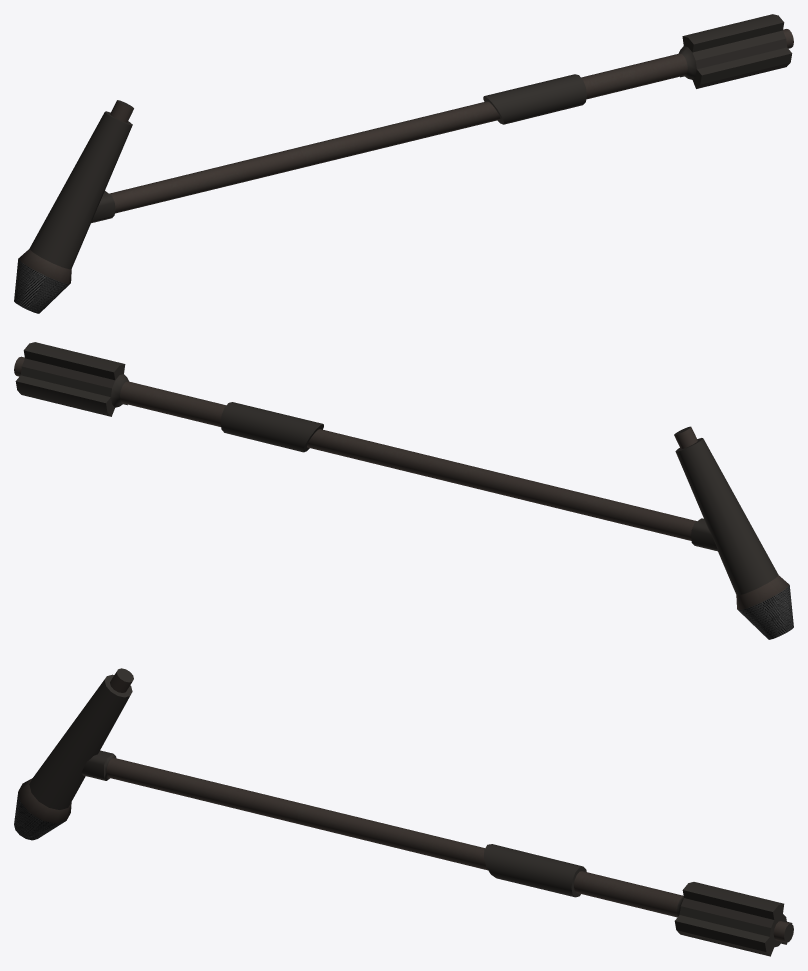
The model's file is GYM_Studio_Mic_1.fbx.
The picture shows the model from 3 angles, top to bottom: view 1: azimuth 30°, elevation 25°; view 2: azimuth 150°, elevation 25°; view 3: azimuth 330°, elevation 25°; orthographic projection.
Parts seen in each view (by area): view 1: GYM_Studio_Mic_1; view 2: GYM_Studio_Mic_1; view 3: GYM_Studio_Mic_1.
Boxes of the visible parts, box(x1,y1,x2,y2) form: GYM_Studio_Mic_1: box(14, 14, 793, 313); GYM_Studio_Mic_1: box(14, 342, 793, 639); GYM_Studio_Mic_1: box(14, 668, 793, 956).
Size of the model in its own units: 3.93 by 0.9206 by 0.2581.
Materials: 3 (2 with a texture image).
